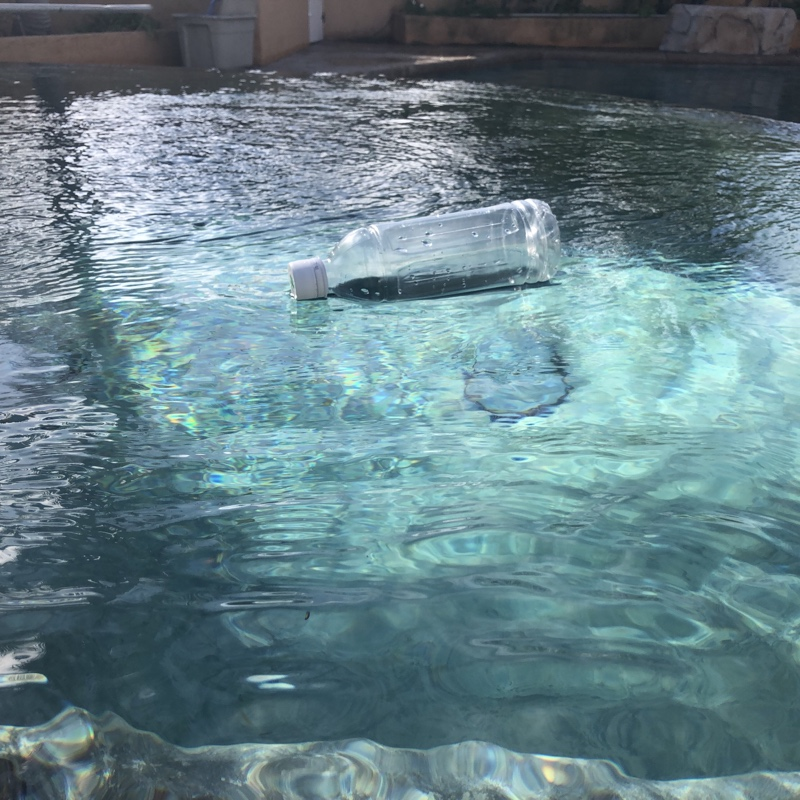Plastic Bottle: (285, 195, 566, 310)
